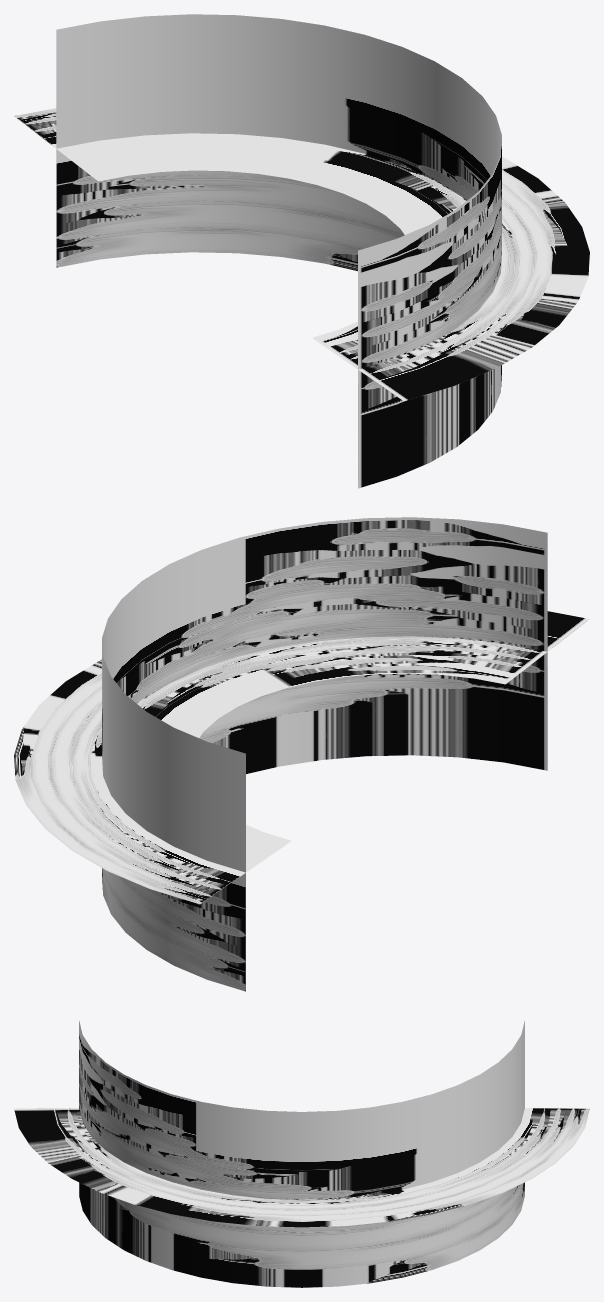
Rendered from shizihuxing_2.FBX.
The picture shows the model from 3 angles, top to bottom: view 1: azimuth 30°, elevation 25°; view 2: azimuth 150°, elevation 25°; view 3: azimuth 270°, elevation 25°; orthographic projection. The views are drawn at different scales.
Visible parts, largest first — view 1: shizihuxing_2; view 2: shizihuxing_2; view 3: shizihuxing_2.
Part boxes in pixels (x1,y1,x2,y2): shizihuxing_2: [14, 14, 589, 488]; shizihuxing_2: [14, 517, 589, 991]; shizihuxing_2: [14, 1020, 589, 1287].
Bounding box in the file's own units: 58.04 × 39.64 × 118.
